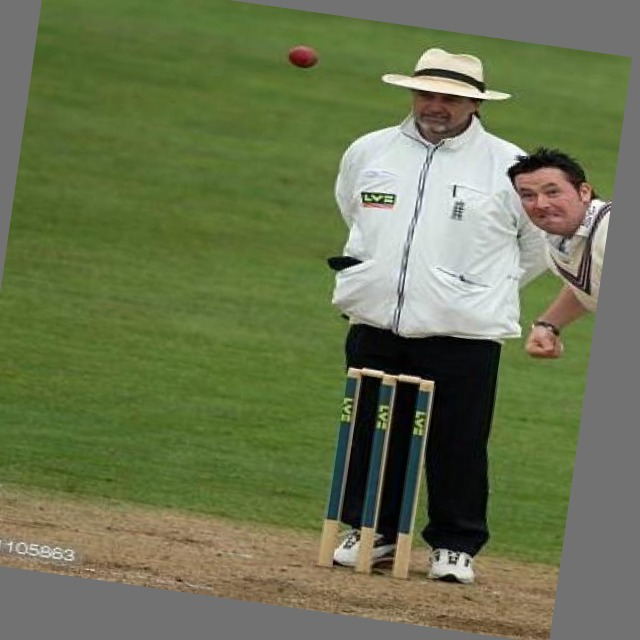No_Action: (264, 25, 573, 597)
